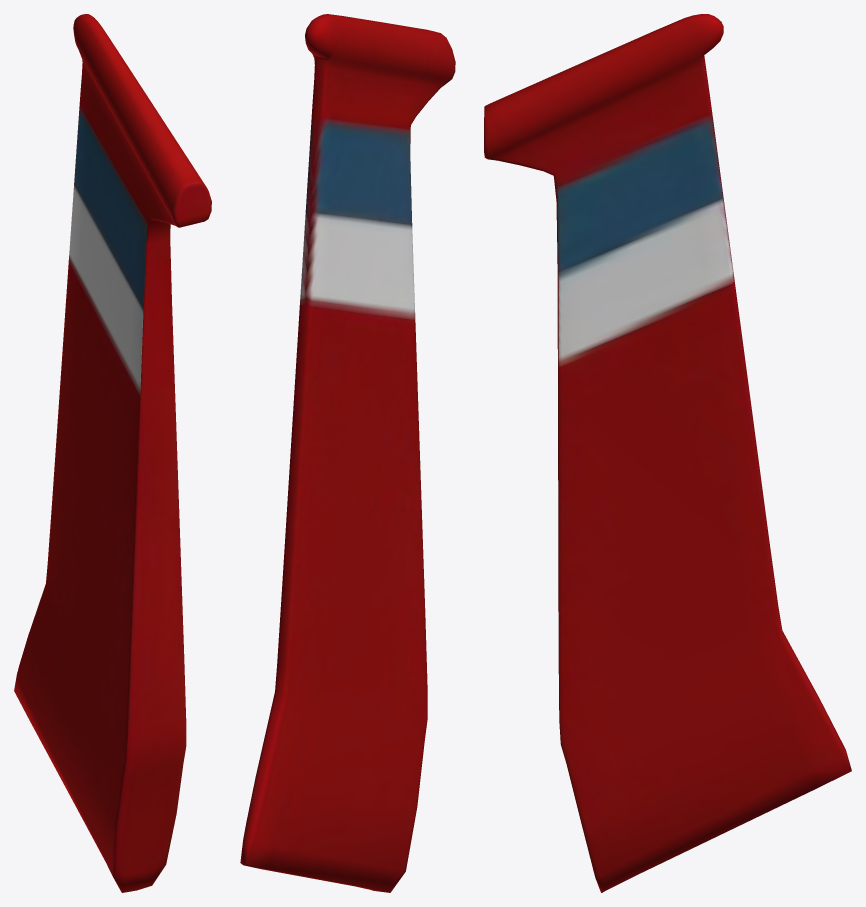
The model's file is CessnaRudder.obj.
3 renders of one model, left to right at view 1: azimuth 30°, elevation 25°; view 2: azimuth 150°, elevation 25°; view 3: azimuth 270°, elevation 25°, orthographic. The views are drawn at different scales.
Parts seen in each view (by area): view 1: A23DOBJ_001_Mesh.009; view 2: A23DOBJ_001_Mesh.009; view 3: A23DOBJ_001_Mesh.009.
Boxes of the visible parts, x1=… form: A23DOBJ_001_Mesh.009: x1=14, y1=14, x2=211, y2=892; A23DOBJ_001_Mesh.009: x1=240, y1=14, x2=455, y2=892; A23DOBJ_001_Mesh.009: x1=484, y1=14, x2=851, y2=892.
Size of the model in its own units: 0.1149 by 1.52 by 0.5807.
Materials: 1 (1 with a texture image).
